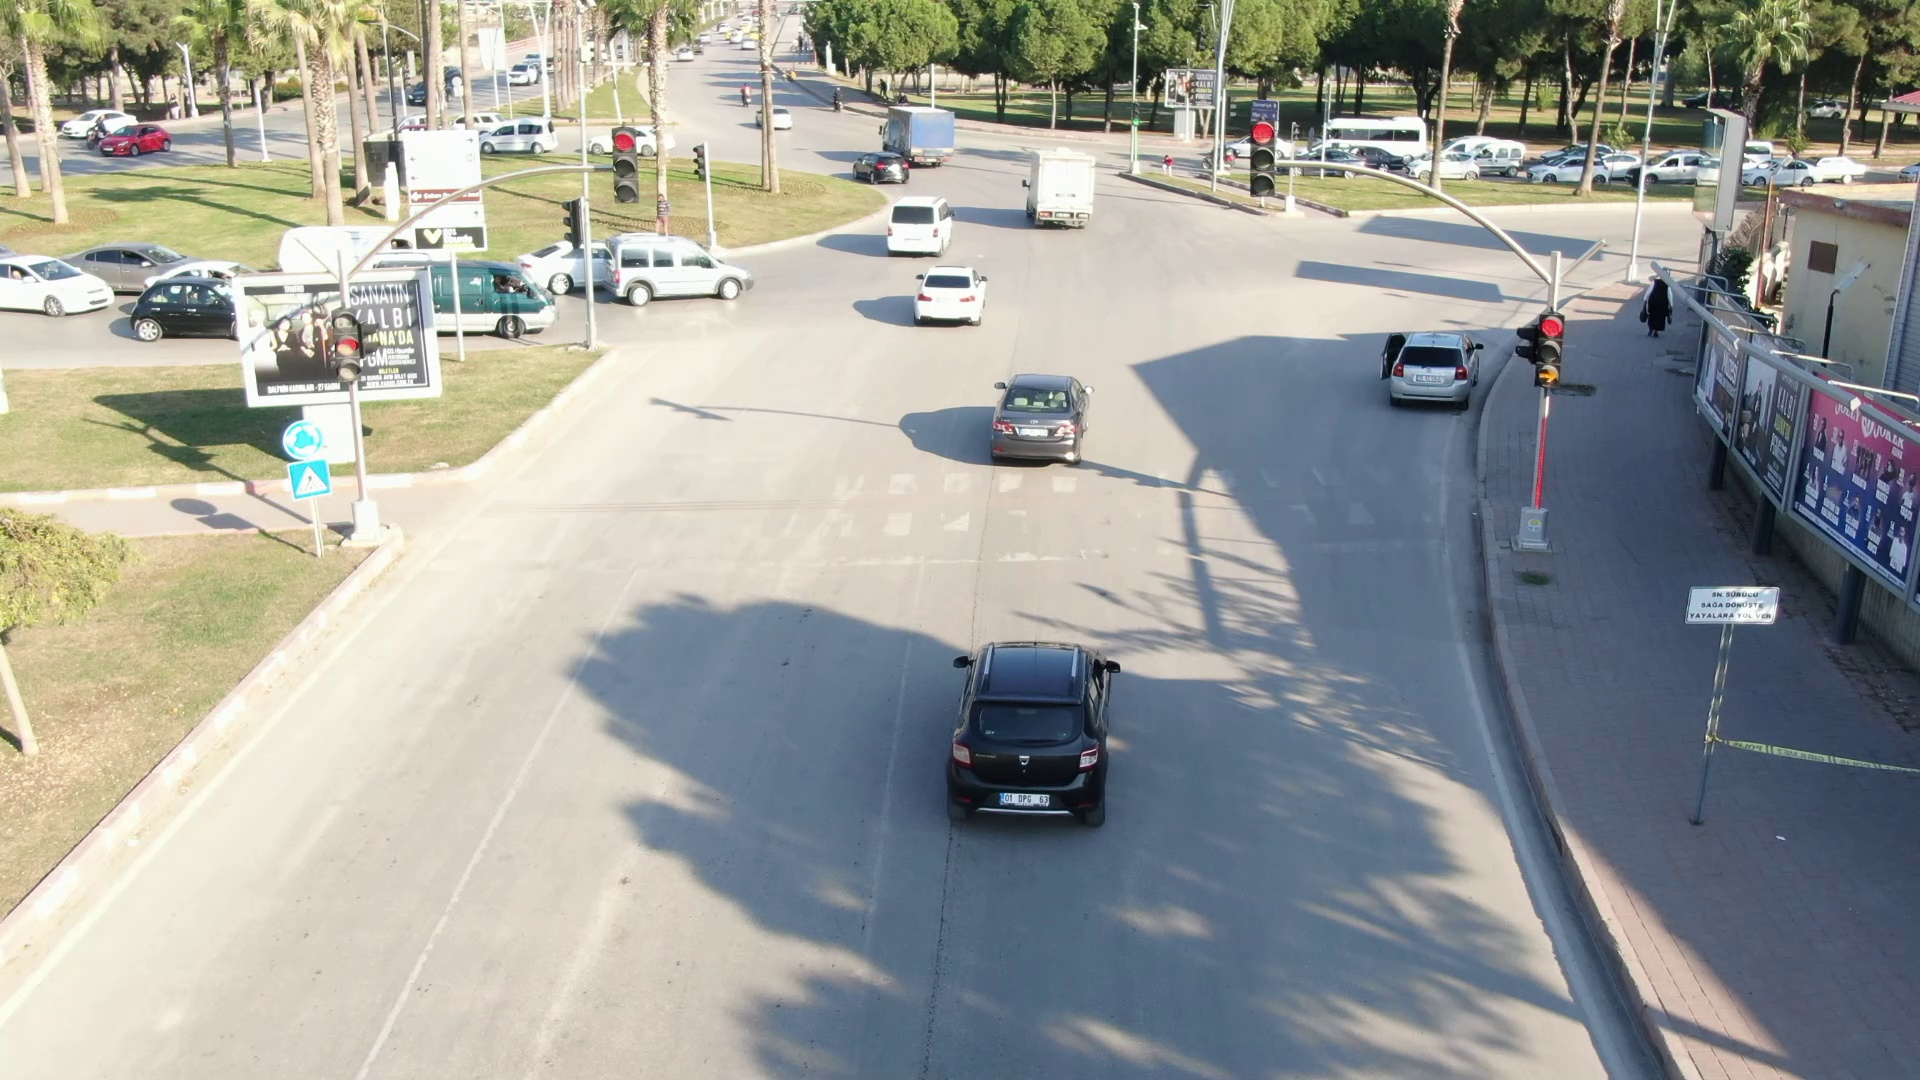car: (906, 608, 1156, 830), (1360, 297, 1493, 406), (595, 226, 754, 315), (982, 365, 1103, 460), (991, 141, 1104, 236), (904, 262, 1030, 332), (869, 187, 965, 265), (97, 113, 178, 167)
person: (1638, 271, 1690, 339)
